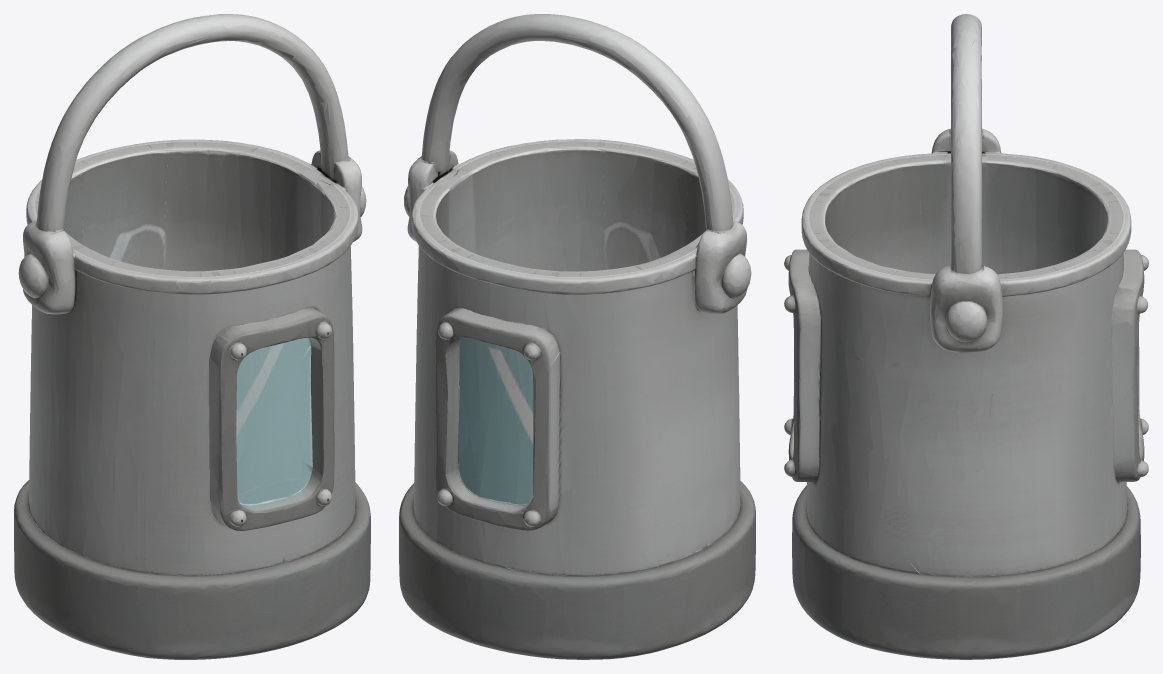
The model's file is sampler.glb.
The picture shows the model from 3 angles, left to right: view 1: azimuth 30°, elevation 25°; view 2: azimuth 150°, elevation 25°; view 3: azimuth 270°, elevation 25°; orthographic projection.
Parts seen in each view (by area): view 1: Mesh_0; view 2: Mesh_0; view 3: Mesh_0.
Part boxes in pixels (bbox=[...]): Mesh_0: bbox=[14, 14, 370, 659]; Mesh_0: bbox=[399, 14, 755, 659]; Mesh_0: bbox=[784, 14, 1148, 659].
Bounding box in the file's own units: 1.19 × 1.9 × 1.12.
1 material, 1 textured.
